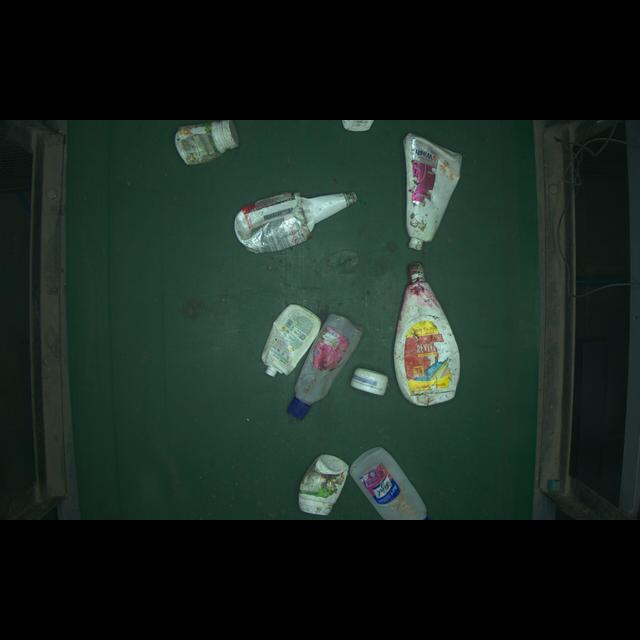mix PET: (389, 260, 463, 415), (230, 182, 362, 253), (264, 293, 320, 385), (292, 448, 351, 519), (350, 360, 390, 403)
